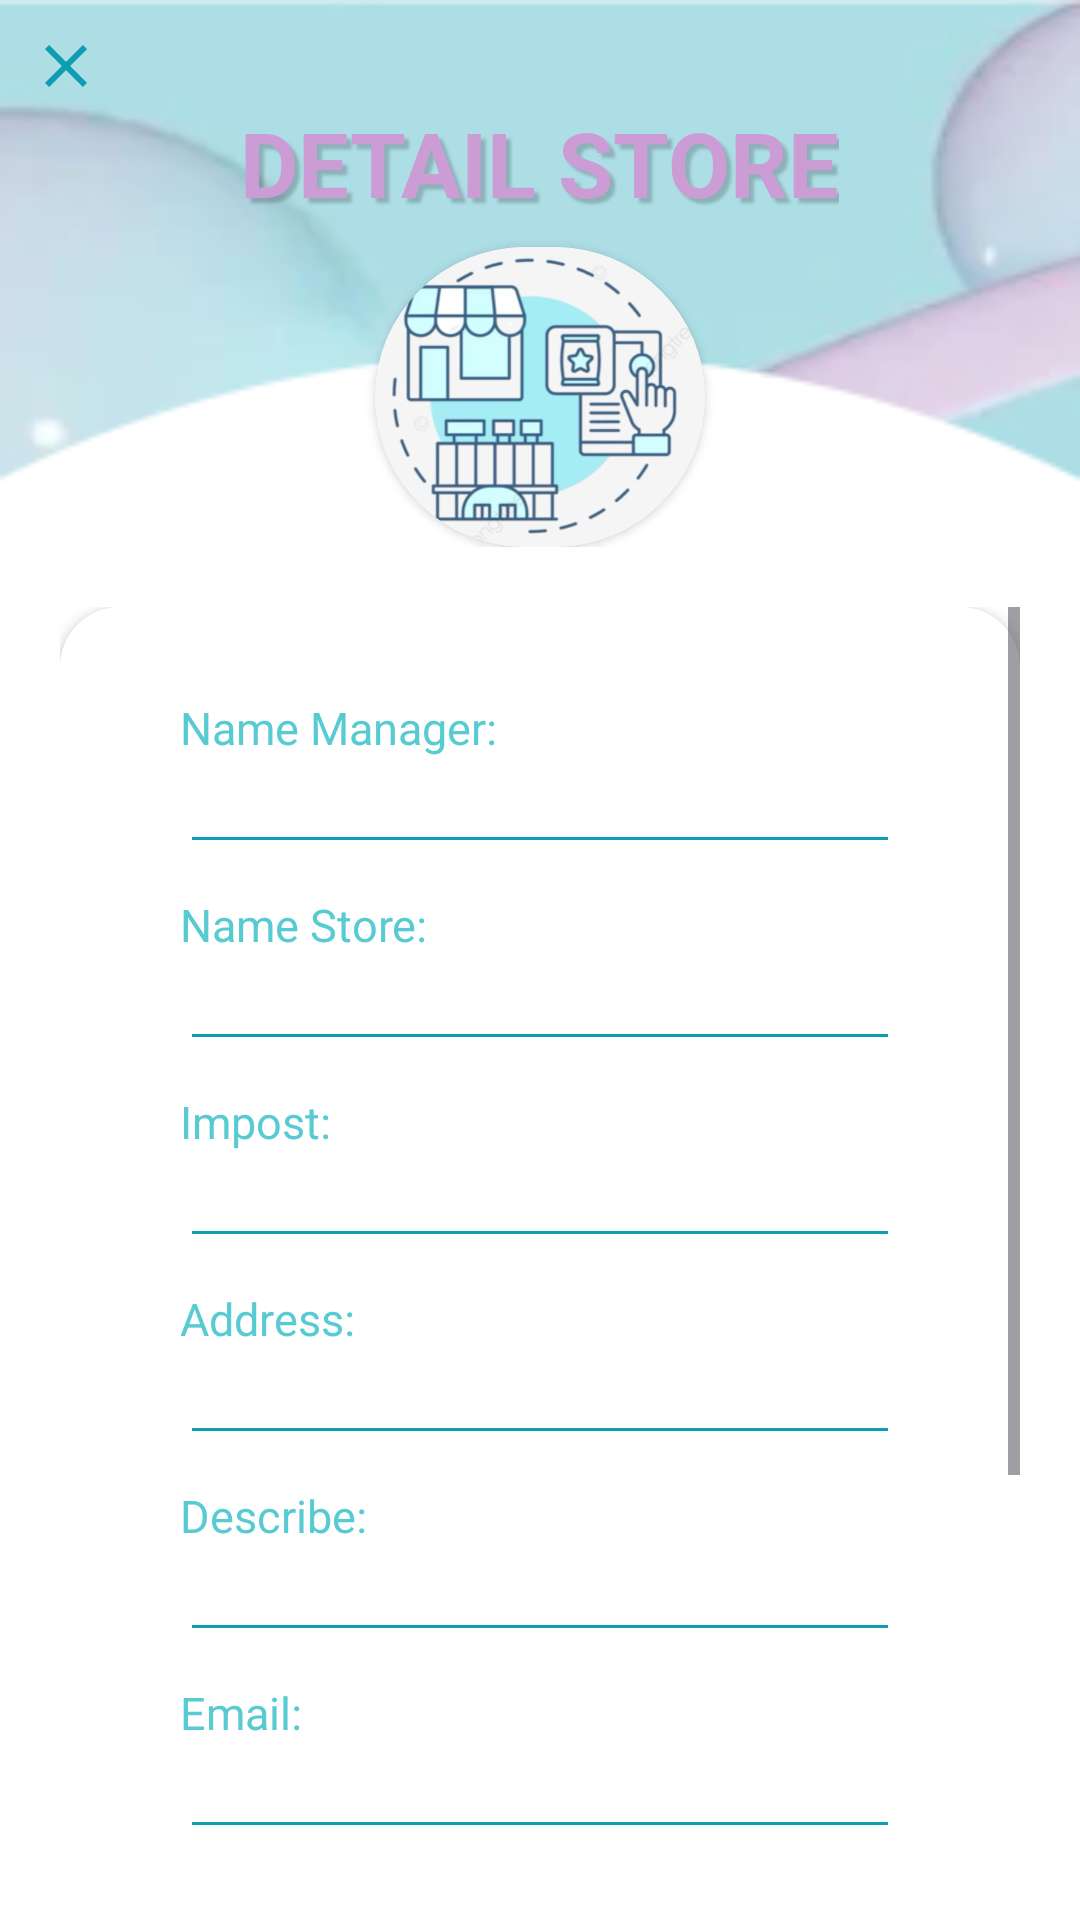

Icons on this 1080x1920 Android screen, each with its box as (x1,y1,x2,y2):
close: (45,45,87,87)
